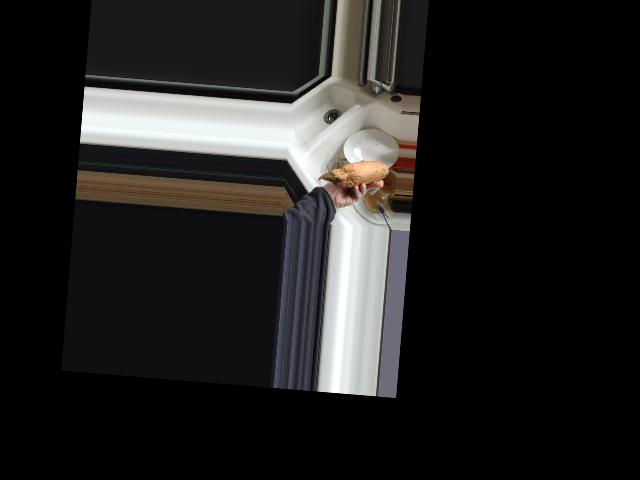sweet_potato: (317, 154, 389, 190)
